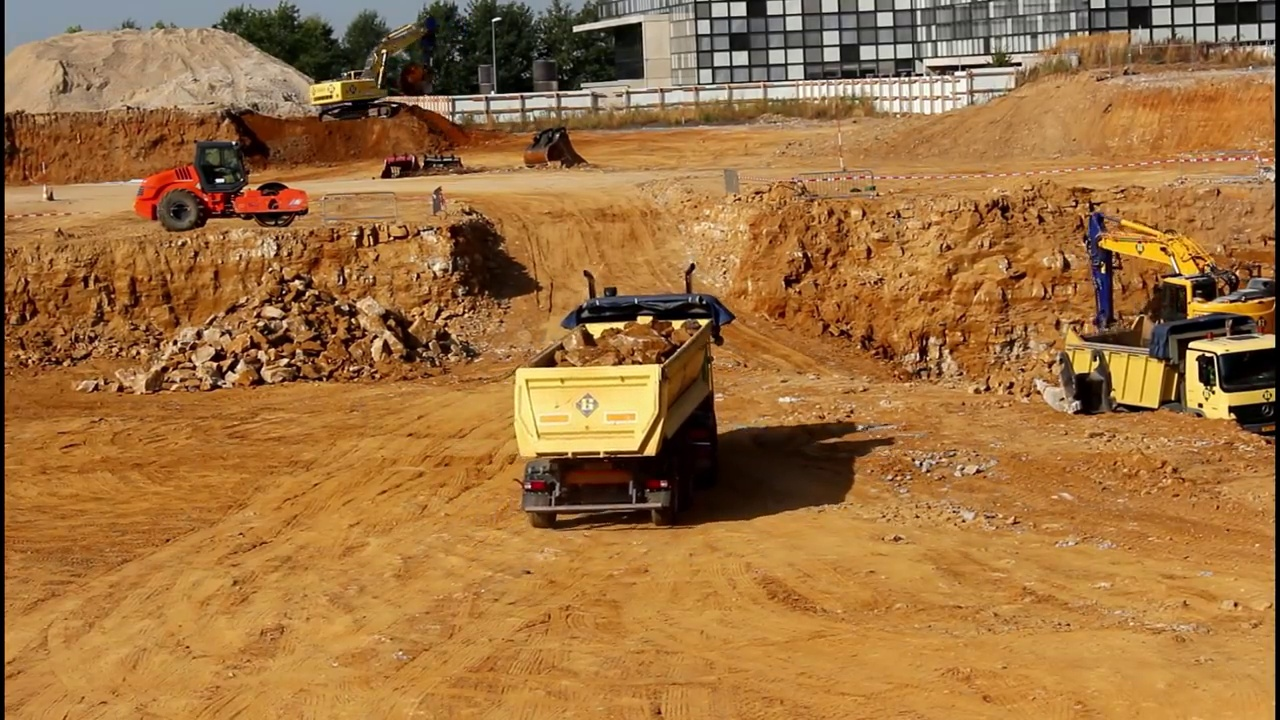compactor: (133, 141, 312, 237)
excavator: (1071, 202, 1280, 392), (306, 20, 440, 127)
truck: (510, 261, 740, 533), (1064, 323, 1280, 456)
